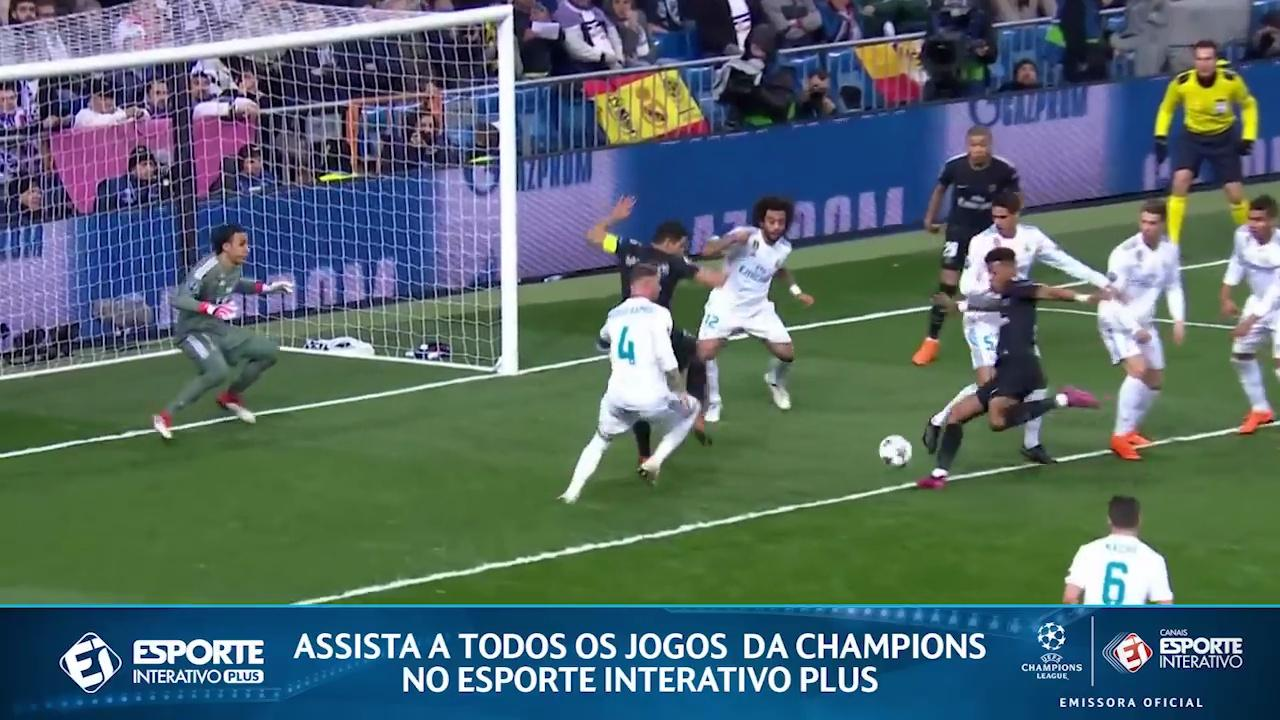football: (879, 435, 912, 466)
player: (917, 246, 1102, 488), (560, 264, 699, 502), (153, 224, 293, 439), (698, 196, 813, 422), (1098, 200, 1185, 460), (924, 126, 1019, 295), (960, 192, 1109, 296), (586, 196, 723, 309), (1220, 195, 1279, 434), (1062, 496, 1172, 605)
referee: (1154, 40, 1256, 242)
